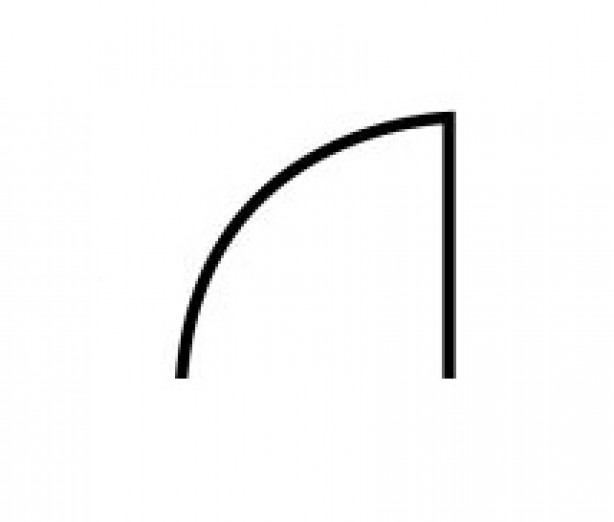door: (140, 75, 490, 414)
